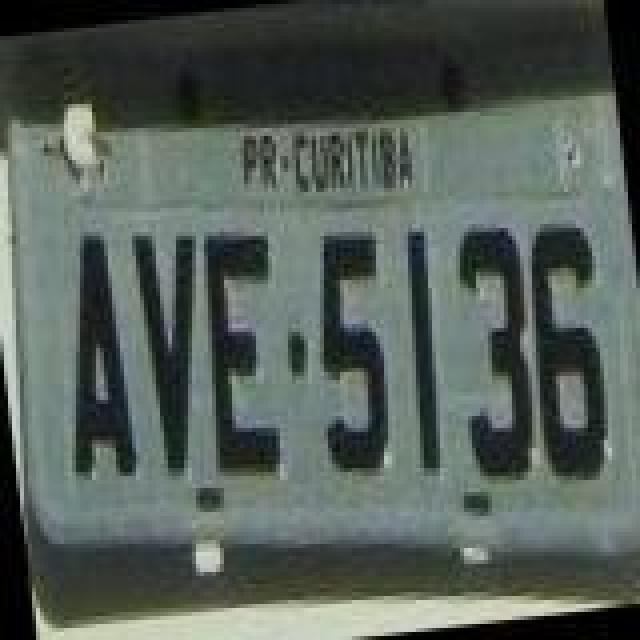1: (392, 228, 456, 476)
3: (444, 218, 548, 486)
5: (300, 224, 404, 480)
6: (516, 218, 620, 486)
A: (44, 232, 140, 488)
E: (184, 220, 296, 484)
V: (128, 224, 224, 480)
